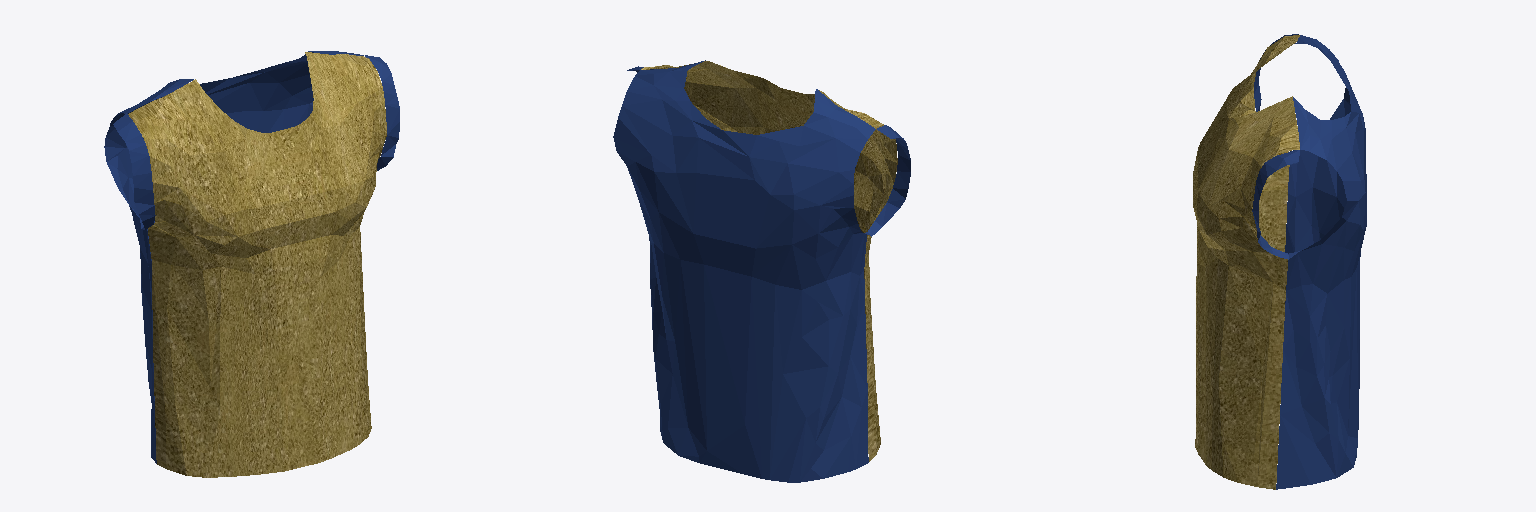
The picture shows the model from 3 angles: view 1: azimuth 30°, elevation 25°; view 2: azimuth 150°, elevation 25°; view 3: azimuth 270°, elevation 25°; orthographic projection.
Visible parts, largest first — view 1: T_shirt.005; view 2: T_shirt.005; view 3: T_shirt.005.
Boxes of the visible parts, <box> form: T_shirt.005: <box>104,51,399,477</box>; T_shirt.005: <box>613,60,910,482</box>; T_shirt.005: <box>1193,34,1366,489</box>.
Bounding box in the file's own units: 0.2935 × 0.3892 × 0.1639.
2 materials, 1 textured.